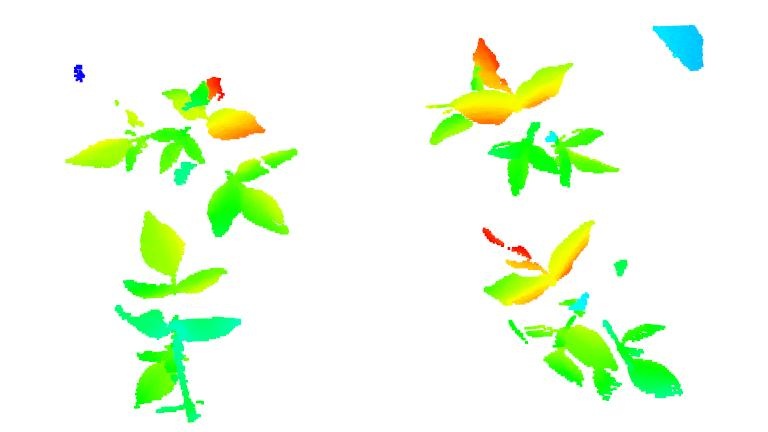mungbean: (53, 75, 301, 238), (478, 222, 688, 401), (434, 36, 621, 196), (114, 210, 240, 425)
